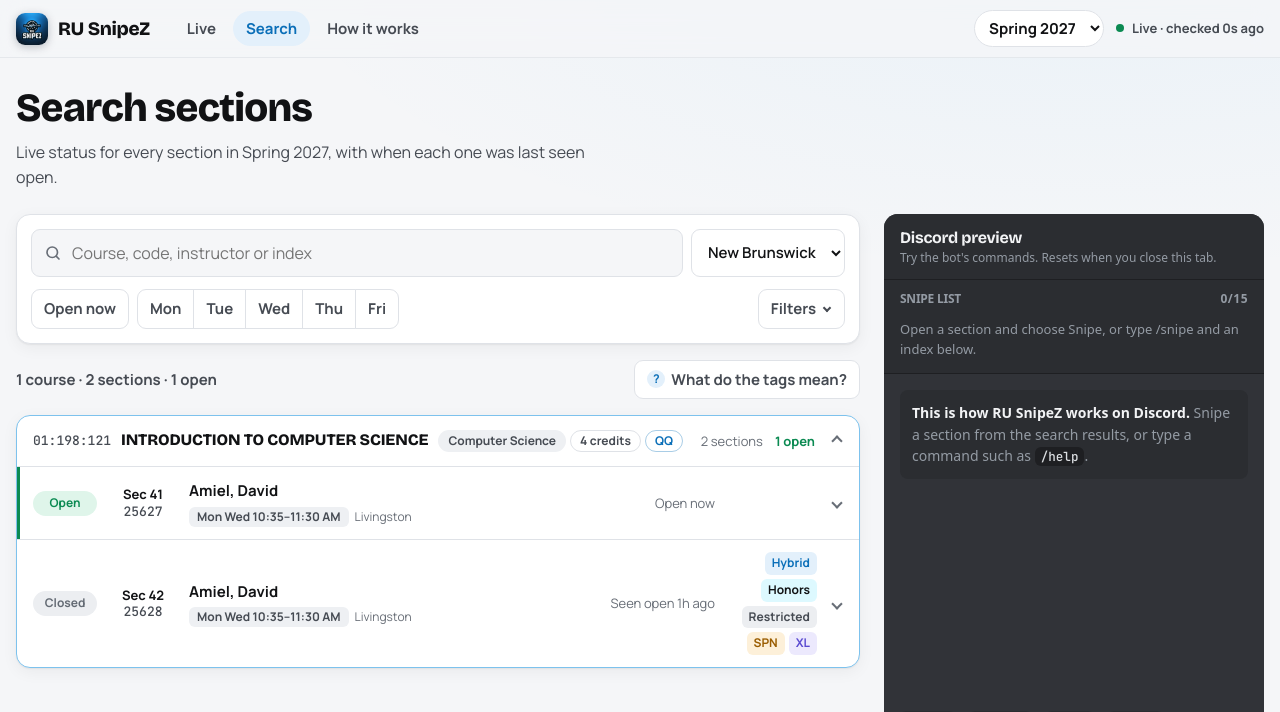
it: search page › expands a section into its history
This screenshot has width=1280, height=712.
Click the button "Sec 42" at (65, 604), box [17,540,859,667]
(page scrolled)
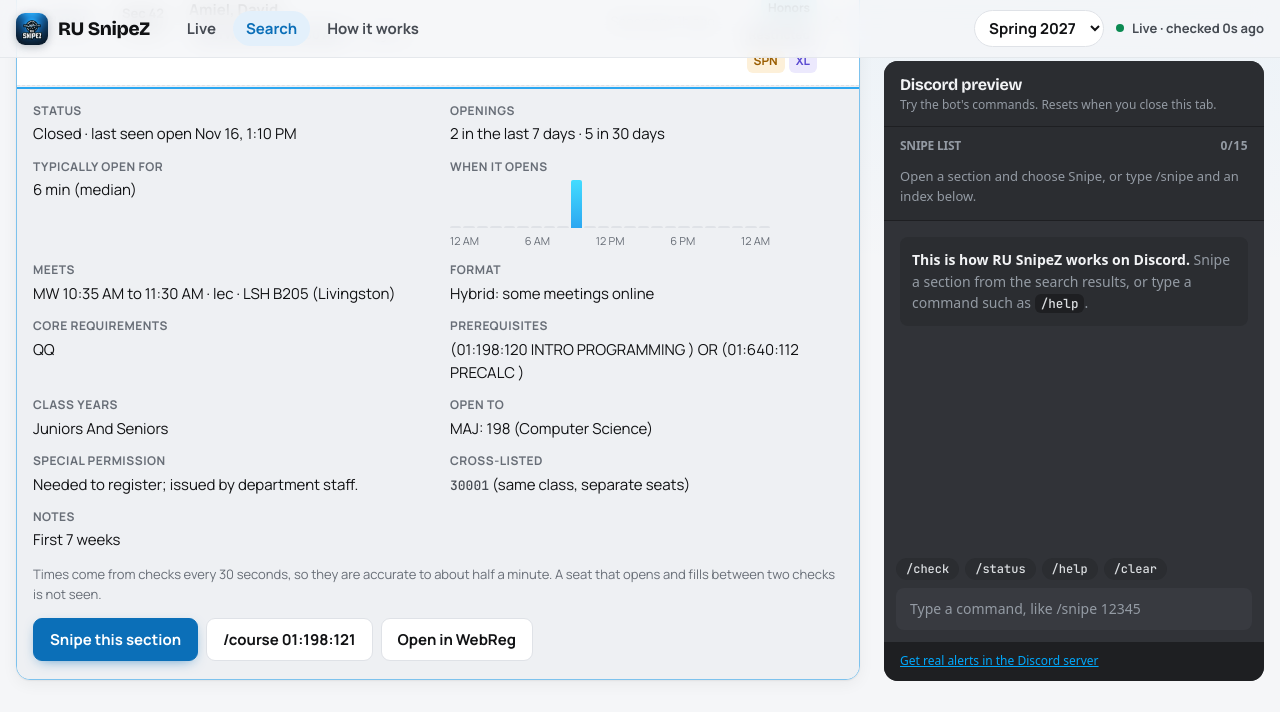
Check: the text "2 in the last 7 days · 5 in 30 days" is shown, box [450,123,665,144]
Check: the text "6 min (median)" is shown, box [33,179,137,200]
Check: the picture named "Most openings around 9 AM Eastern" is shown, box [450,180,770,228]
